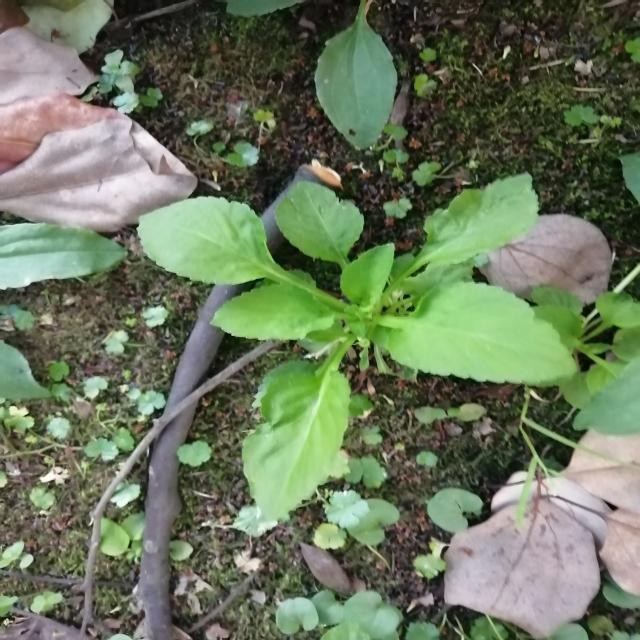Viola: (103, 159, 560, 468)
